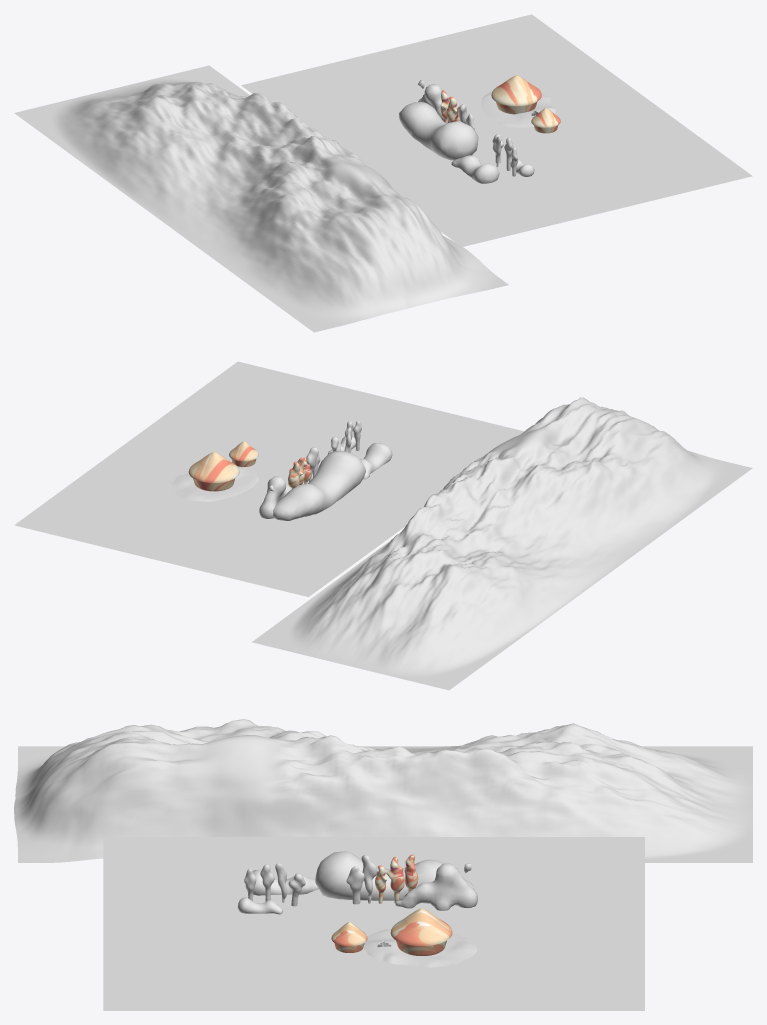
File: 干草堆 1.fbx
3 renders of one model, top to bottom at view 1: azimuth 30°, elevation 25°; view 2: azimuth 150°, elevation 25°; view 3: azimuth 270°, elevation 25°, orthographic. The views are drawn at different scales.
Parts seen in each view (by area): view 1: Landscape, Plane, Mball.009, Plane.001, Circle.002, Mball.010; view 2: Landscape, Plane, Mball.009, Plane.001, Circle.002, Mball.021, Mball.010; view 3: Plane, Landscape, Mball.009, Mball.021, Plane.001, Circle.002, Mball.010, Circle.003, Mball.013.
Part boxes in pixels (left/top/right/bottom): Landscape: left=14, top=65, right=508, bottom=332; Plane: left=241, top=14, right=752, bottom=246; Mball.009: left=399, top=102, right=478, bottom=160; Plane.001: left=481, top=91, right=556, bottom=127; Circle.002: left=491, top=75, right=541, bottom=105; Mball.010: left=451, top=155, right=499, bottom=183; Landscape: left=252, top=397, right=752, bottom=690; Plane: left=14, top=361, right=523, bottom=596; Mball.009: left=273, top=451, right=365, bottom=520; Plane.001: left=170, top=466, right=258, bottom=501; Circle.002: left=188, top=452, right=239, bottom=482; Mball.021: left=259, top=476, right=291, bottom=518; Mball.010: left=360, top=443, right=392, bottom=479; Plane: left=103, top=837, right=644, bottom=1010; Landscape: left=14, top=719, right=752, bottom=862; Mball.009: left=315, top=851, right=474, bottom=900; Mball.021: left=395, top=863, right=477, bottom=910; Plane.001: left=363, top=929, right=477, bottom=967; Circle.002: left=390, top=908, right=452, bottom=945; Mball.010: left=245, top=869, right=318, bottom=895; Circle.003: left=331, top=922, right=367, bottom=946; Mball.013: left=237, top=897, right=282, bottom=914.
Size of the model in its own units: 2488 by 358 by 2742.
